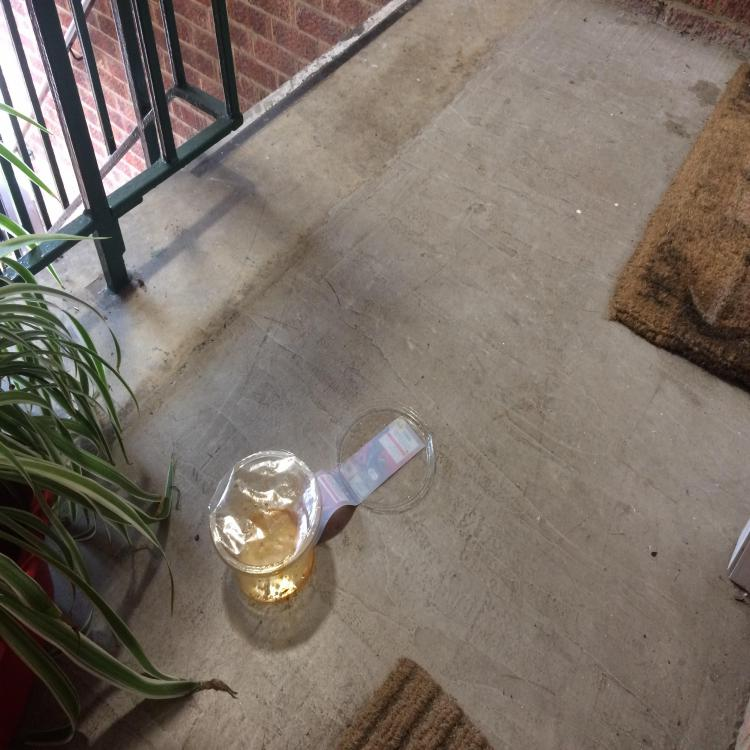Plastic film: (206, 449, 322, 574)
Plastic lid: (336, 401, 434, 511)
Unlabeled litter: (314, 416, 424, 544)
